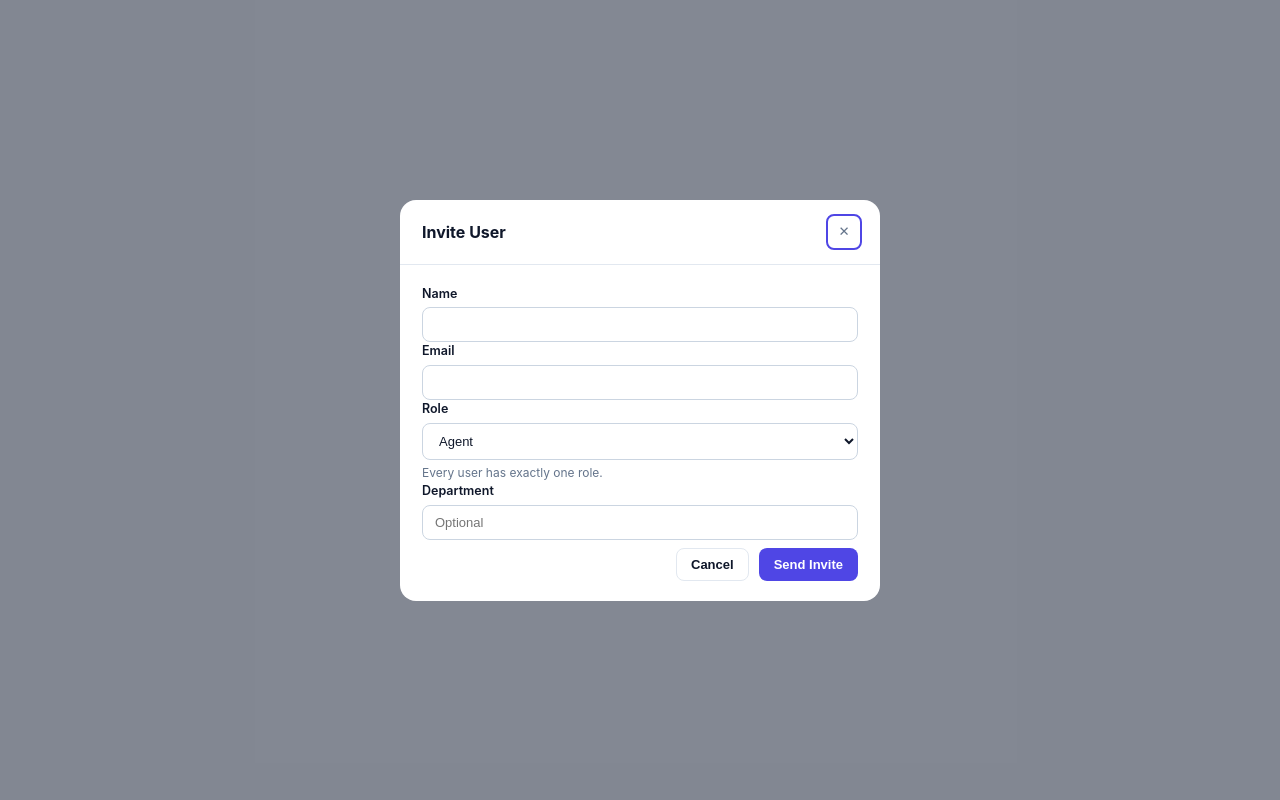
it: InviteUserModal › blocks a submit whose role is forced blank, and surfaces a field-level error
Type "New Person" into the field labelled "Name" at (640, 325), box [422,307,858,342]
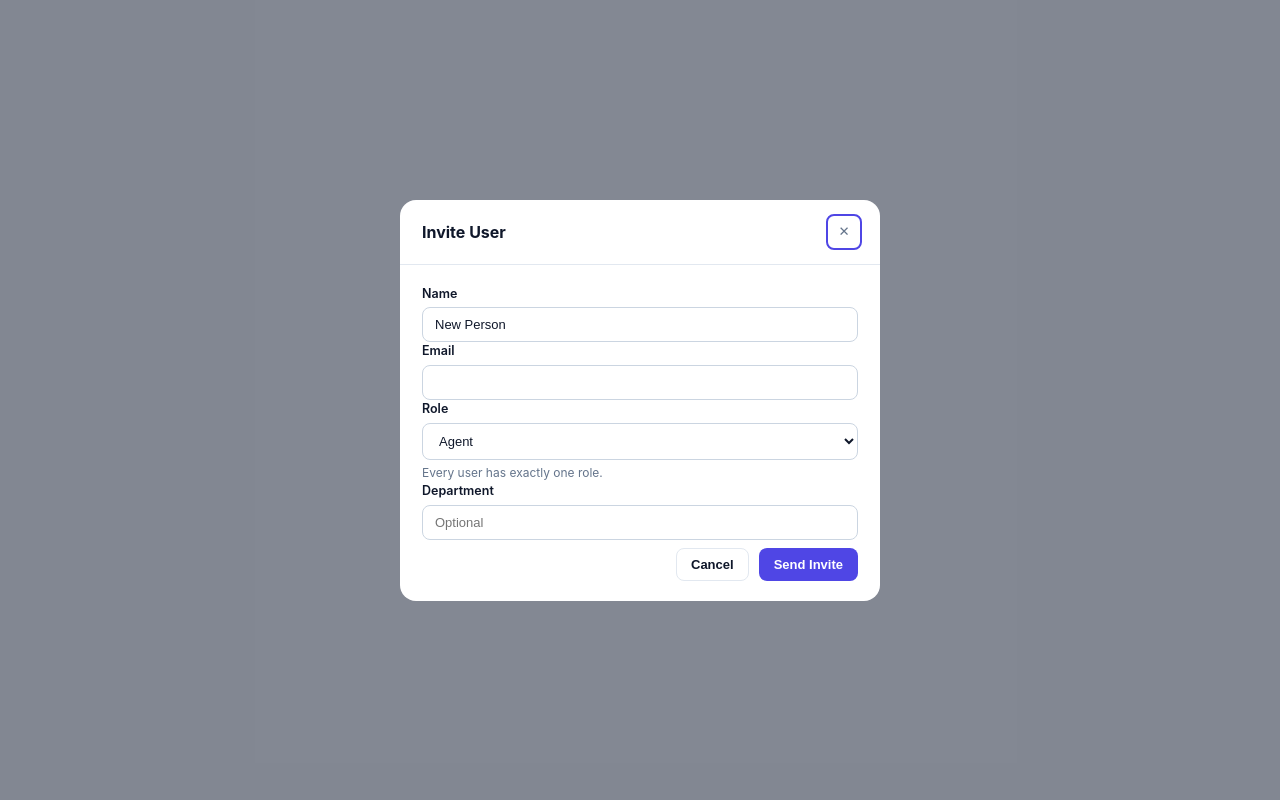
Type "new@wisal.io" into the field labelled "Email" at (640, 382), box [422,365,858,400]
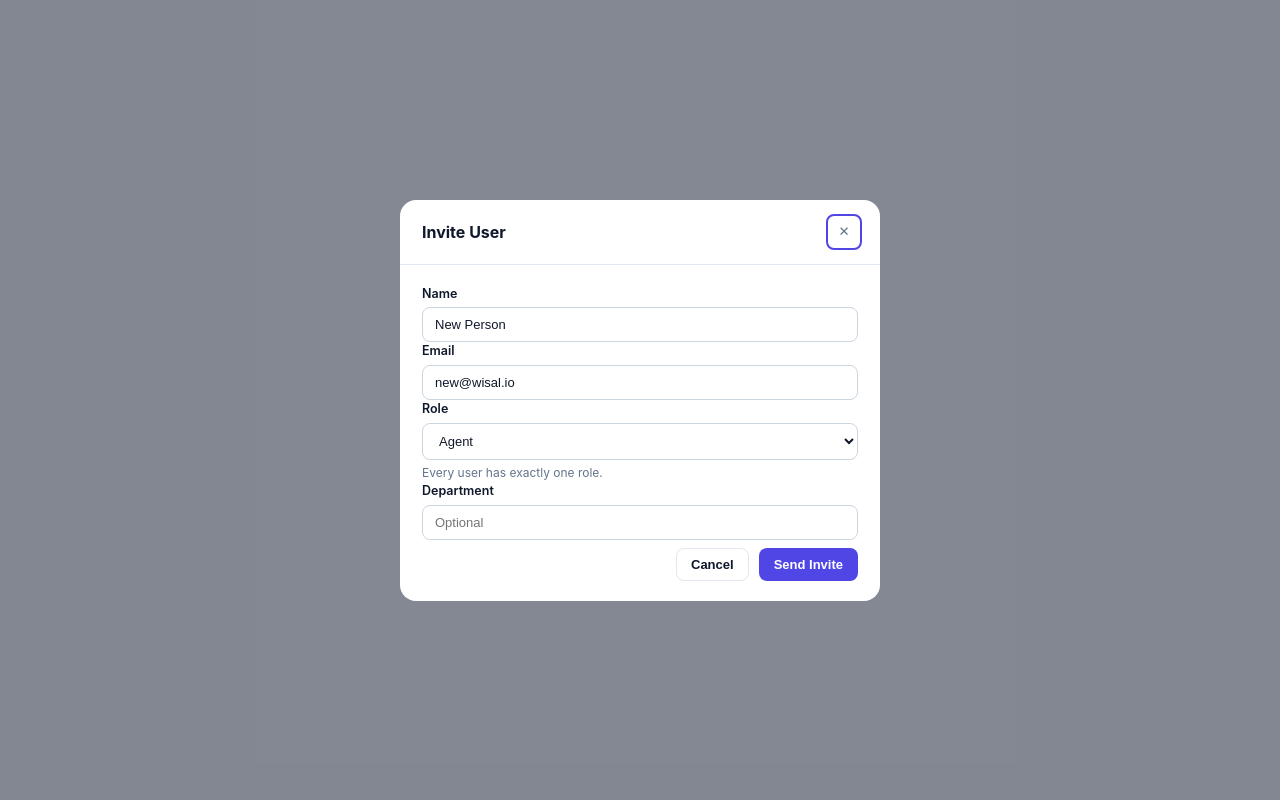
Select "" in the dropdown labelled "Role" at (640, 441), box [422,423,858,460]
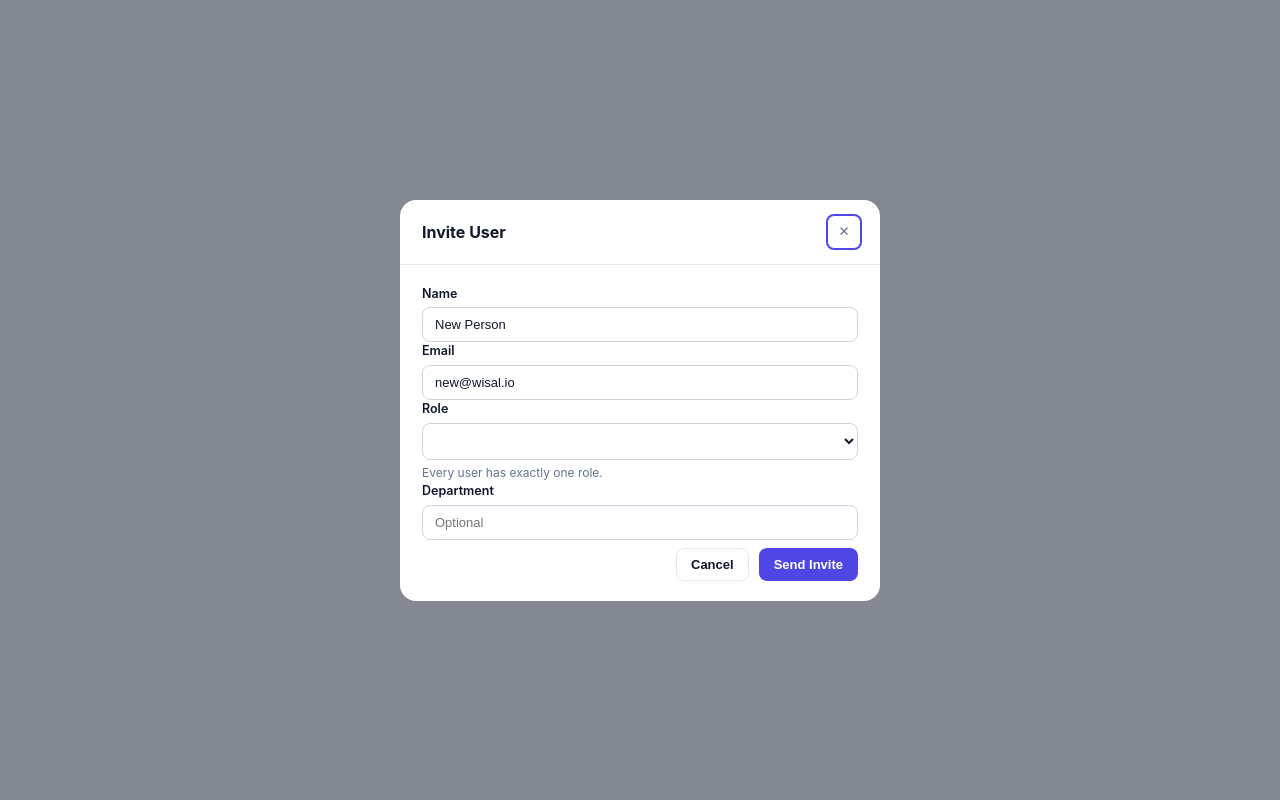
Click the button "Send Invite" at (808, 564), box [759,548,858,580]
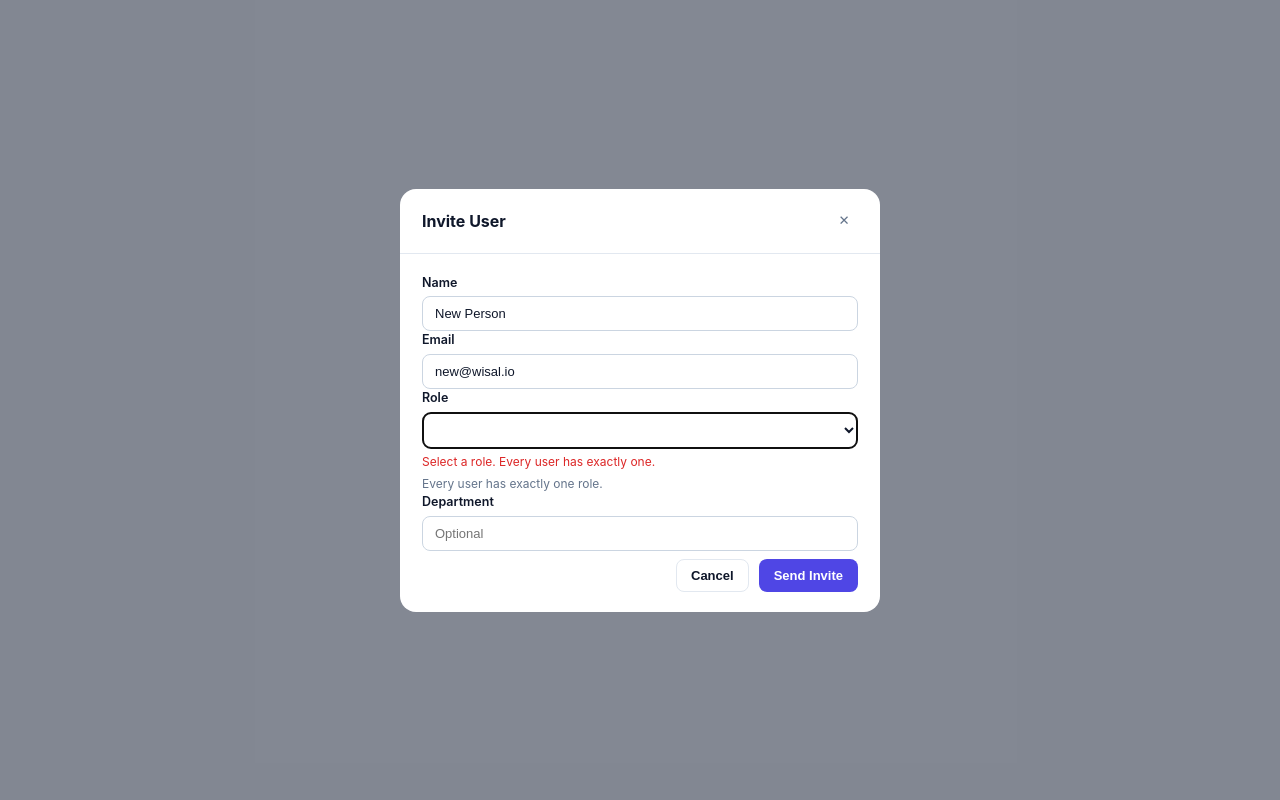
Check: the text "Select a role. Every user has exactly one." is shown, box [422,454,655,469]
